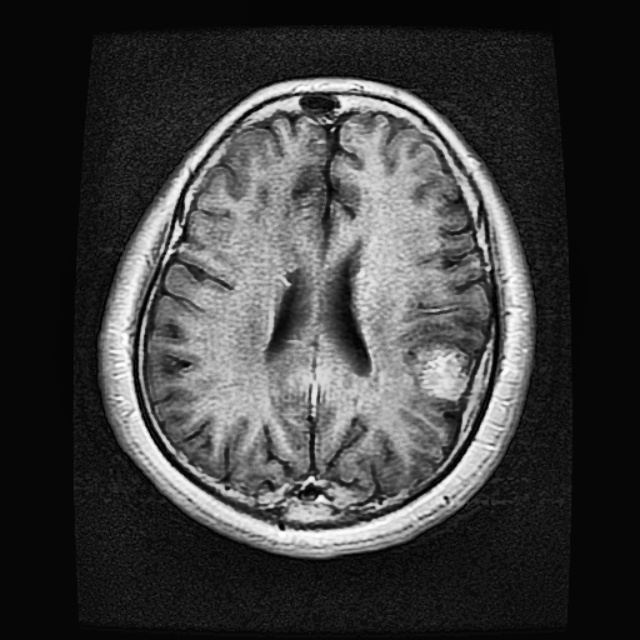Pituitary: (413, 339, 474, 400)
